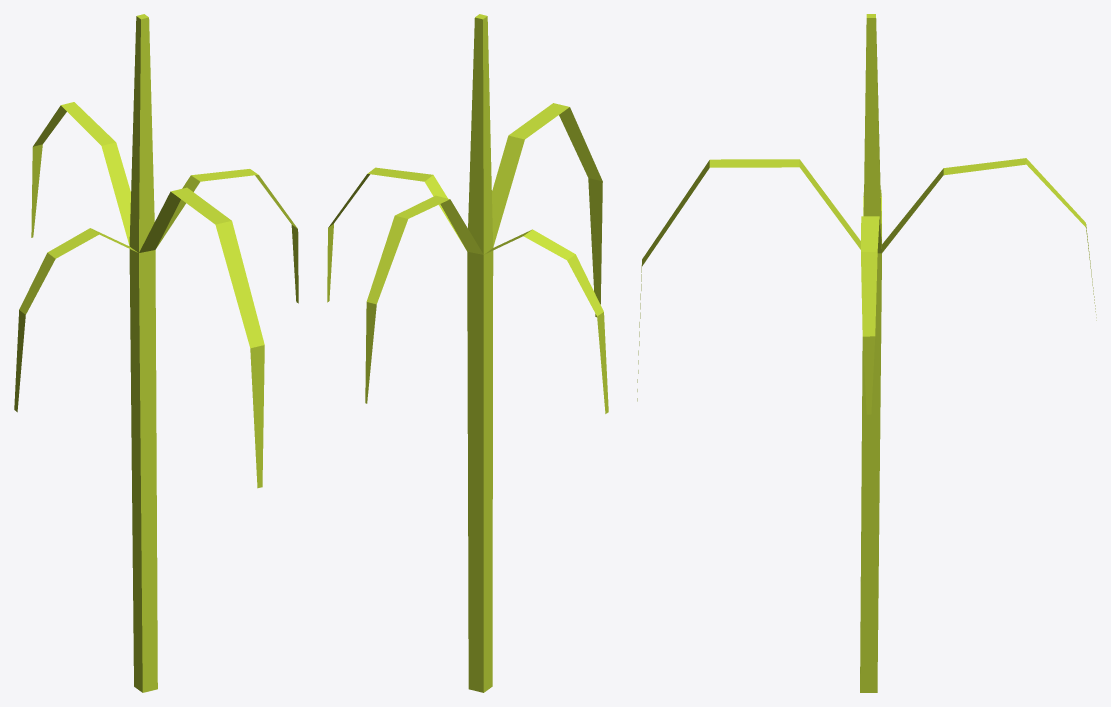
File: grass.glb
3 renders of one model, left to right at view 1: azimuth 30°, elevation 25°; view 2: azimuth 150°, elevation 25°; view 3: azimuth 270°, elevation 25°, orthographic.
Visible parts, largest first — view 1: Cube; view 2: Cube; view 3: Cube.
Boxes of the visible parts, box(x1,y1,x2,y2) form: Cube: box(14, 14, 298, 692); Cube: box(327, 14, 608, 692); Cube: box(637, 14, 1096, 692).
Bounding box in the file's own units: 0.8732 × 2 × 1.24.
